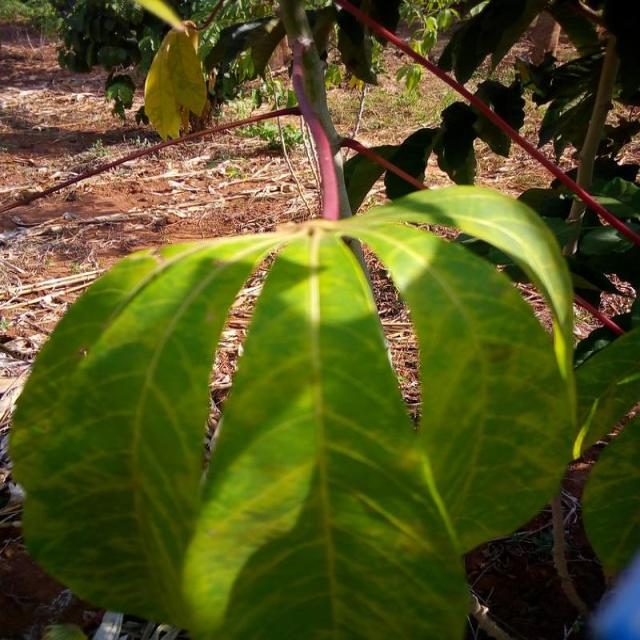cassava leaf: (9, 188, 578, 638), (178, 221, 472, 638), (142, 20, 208, 142)
